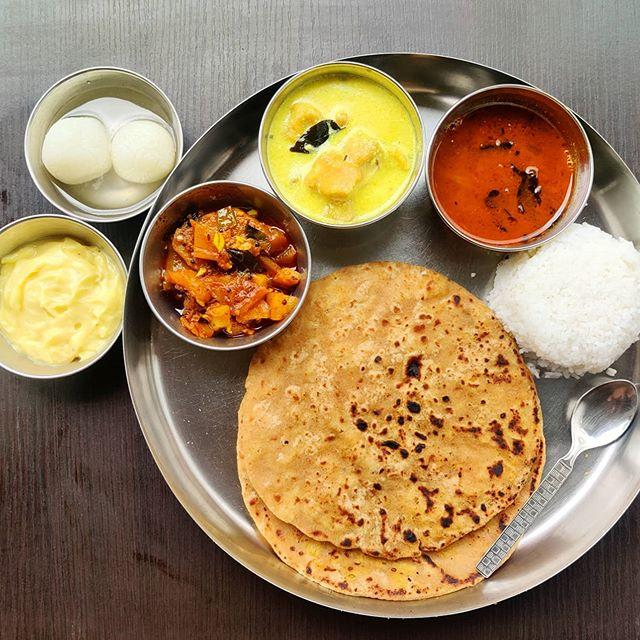Roti: (236, 260, 542, 600)
White Rice: (489, 222, 640, 378)
